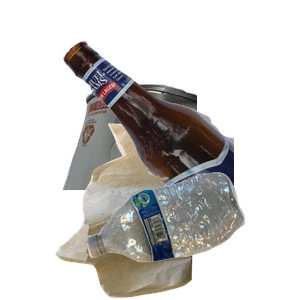glass: (60, 38, 300, 218)
metal: (60, 82, 300, 262)
plastic: (85, 170, 300, 300)
trash: (53, 121, 239, 300)
